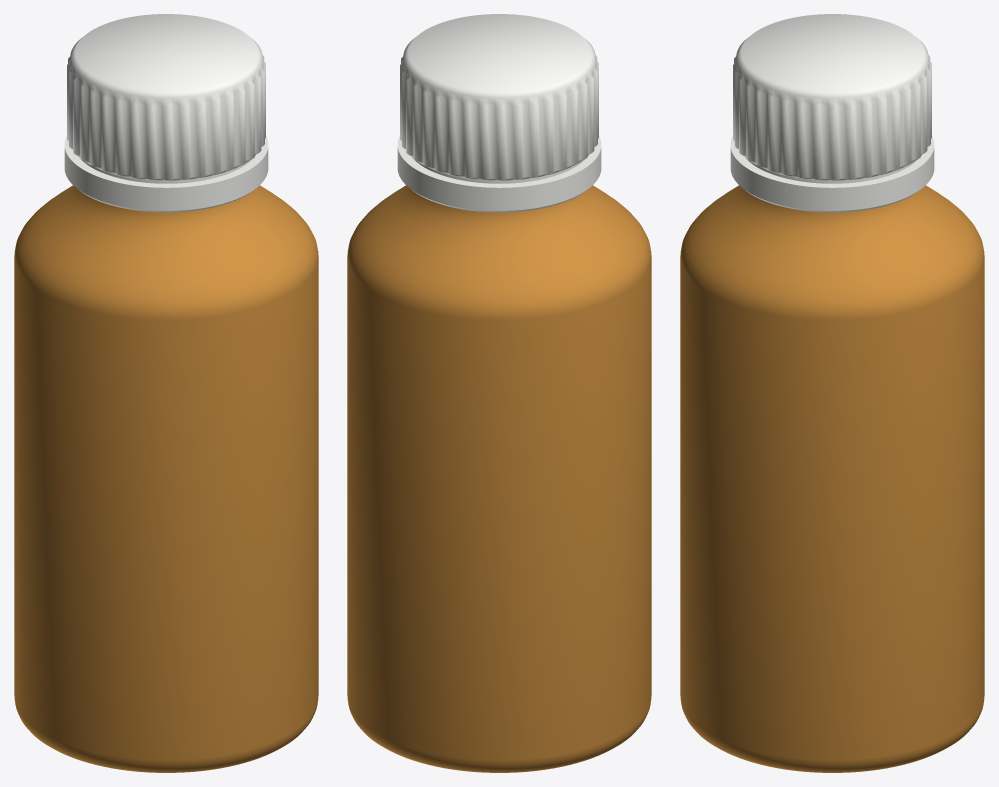
File: amber_bottle_100ml.glb
The picture shows the model from 3 angles, left to right: view 1: azimuth 30°, elevation 25°; view 2: azimuth 150°, elevation 25°; view 3: azimuth 270°, elevation 25°; orthographic projection.
Visible parts, largest first — view 1: Bottle_100ml, Cap_100ml_PP28; view 2: Bottle_100ml, Cap_100ml_PP28; view 3: Bottle_100ml, Cap_100ml_PP28.
Part boxes in pixels (x1,y1,x2,y2): Bottle_100ml: [14, 185, 318, 772]; Cap_100ml_PP28: [64, 14, 268, 212]; Bottle_100ml: [347, 185, 651, 772]; Cap_100ml_PP28: [397, 14, 601, 212]; Bottle_100ml: [680, 185, 984, 772]; Cap_100ml_PP28: [730, 14, 934, 212].
Bounding box in the file's own units: 0.0474 × 0.1142 × 0.0474.
